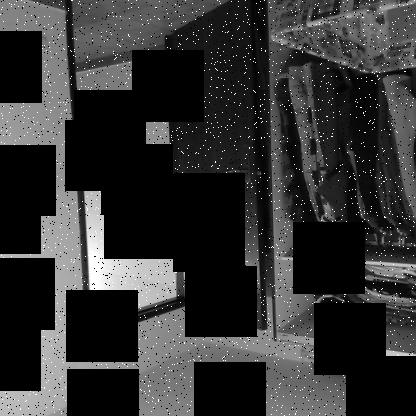Porte: (63, 1, 272, 341)
